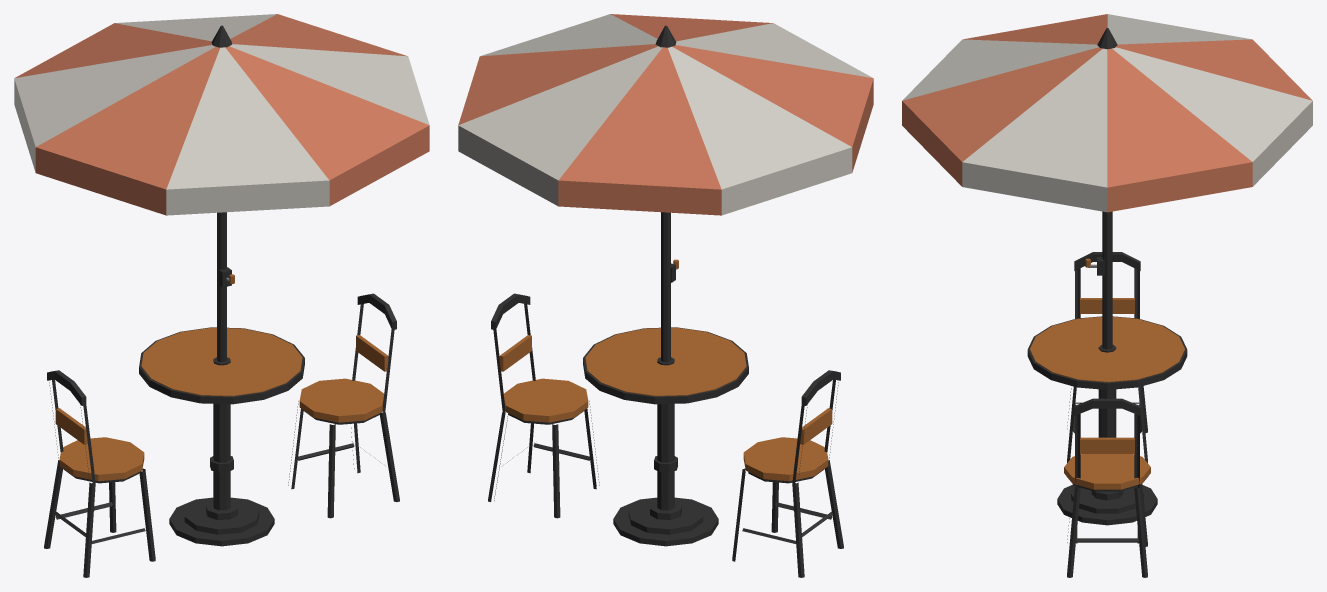
File: kafe_seti.glb
The picture shows the model from 3 angles, left to right: view 1: azimuth 30°, elevation 25°; view 2: azimuth 150°, elevation 25°; view 3: azimuth 270°, elevation 25°; orthographic projection. The views are drawn at different scales.
Parts seen in each view (by area): view 1: kafe_seti; view 2: kafe_seti; view 3: kafe_seti.
Part boxes in pixels (x1,y1,x2,y2): kafe_seti: (14, 14, 429, 577); kafe_seti: (458, 14, 873, 577); kafe_seti: (902, 14, 1312, 577).
Bounding box in the file's own units: 1.8 × 2.3 × 1.8.
